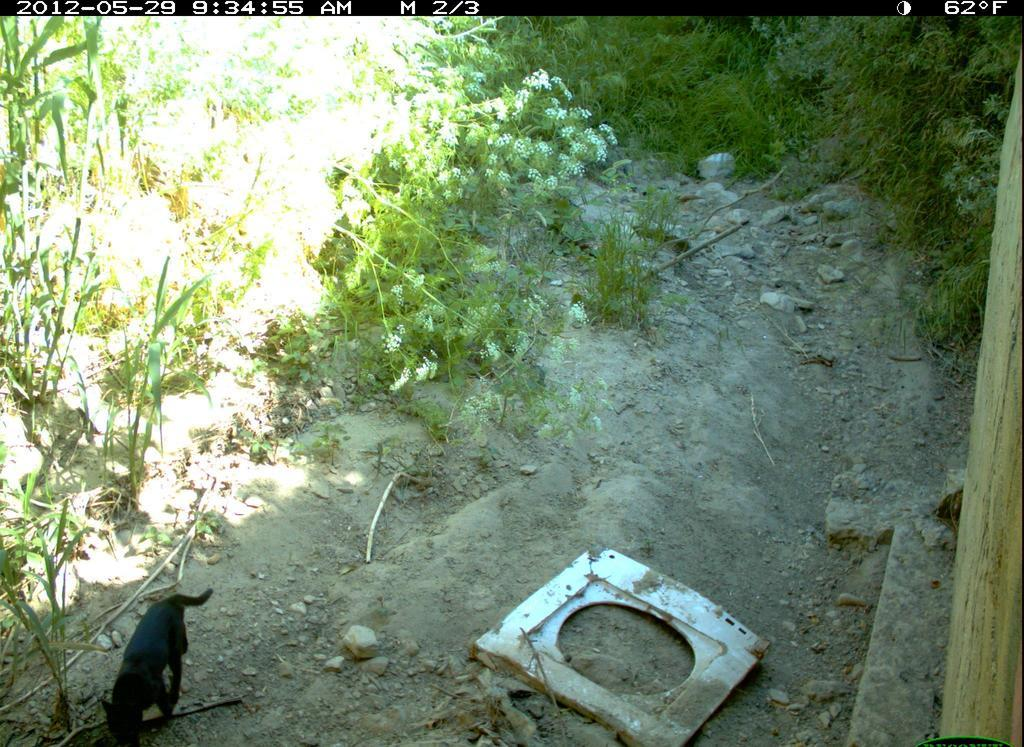cat: (91, 585, 232, 747)
